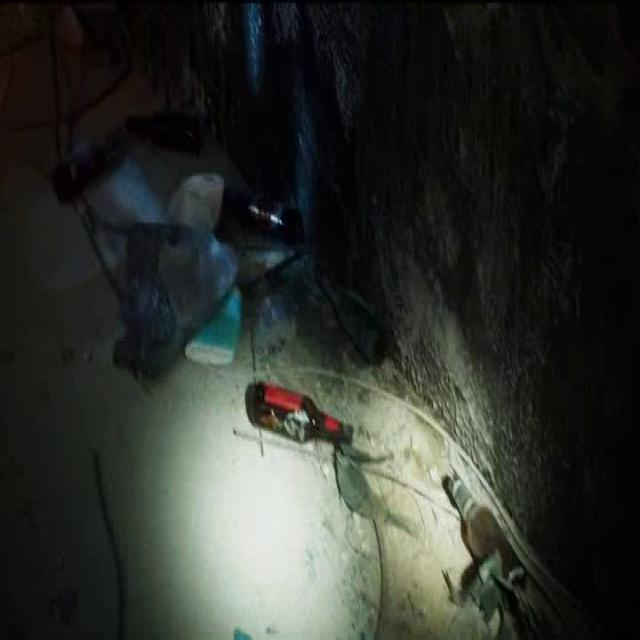Bottle: (443, 446, 560, 636), (240, 370, 359, 459), (43, 126, 145, 217), (309, 249, 384, 372), (217, 181, 313, 256), (121, 105, 212, 163)
